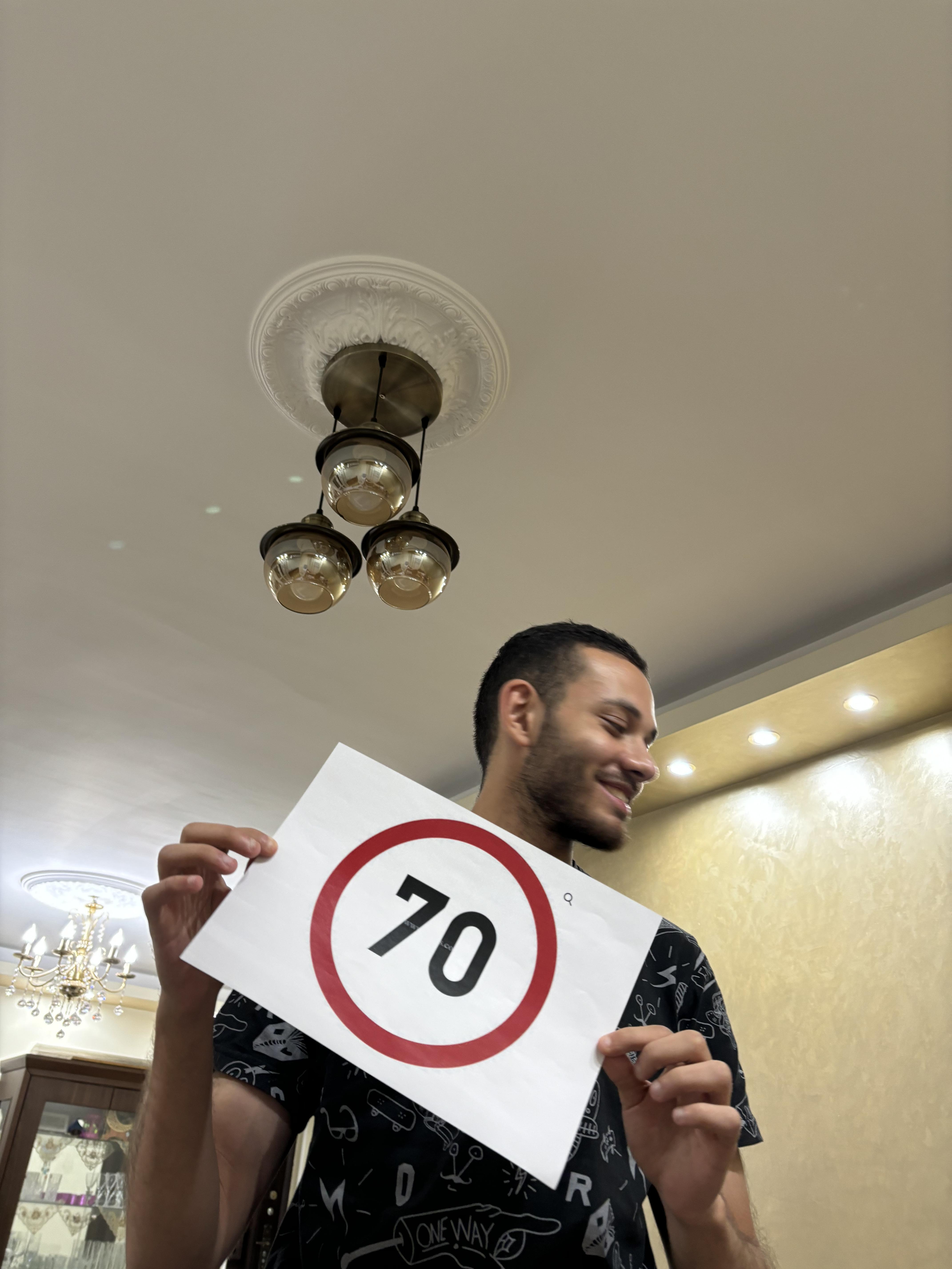70-Speed: (305, 805, 568, 1077)
